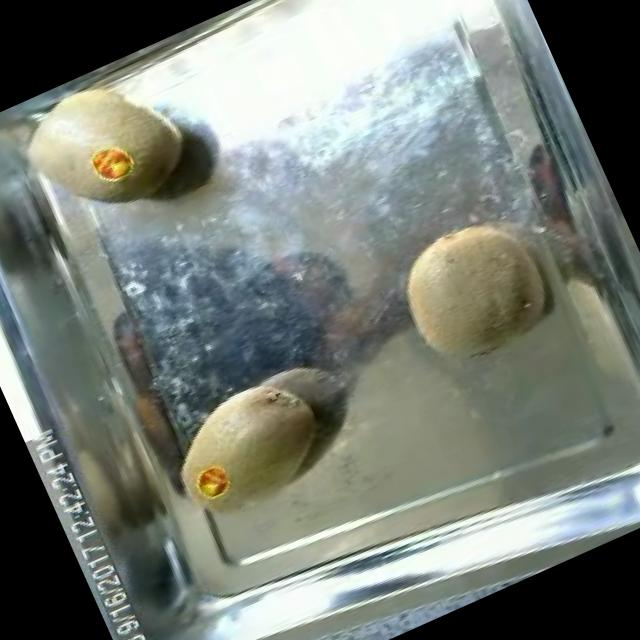Fruit: (0, 43, 217, 254), (367, 188, 580, 392), (153, 353, 358, 539)
